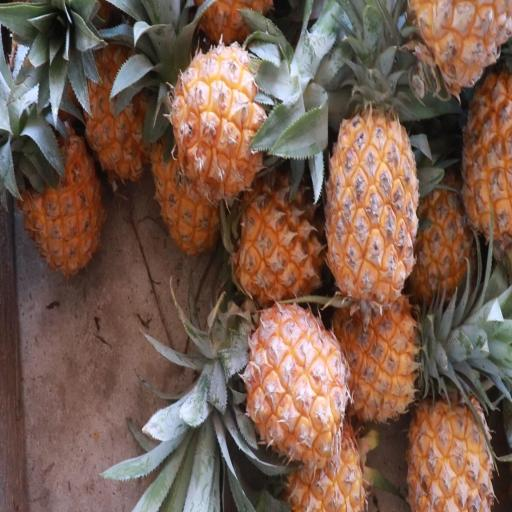Pineapple - v8 v1: (324, 82, 421, 313), (8, 102, 110, 288), (243, 296, 352, 470), (166, 33, 272, 204), (228, 159, 327, 303), (333, 284, 426, 426), (404, 372, 496, 512), (79, 33, 158, 189), (457, 62, 512, 249), (285, 416, 375, 512)
